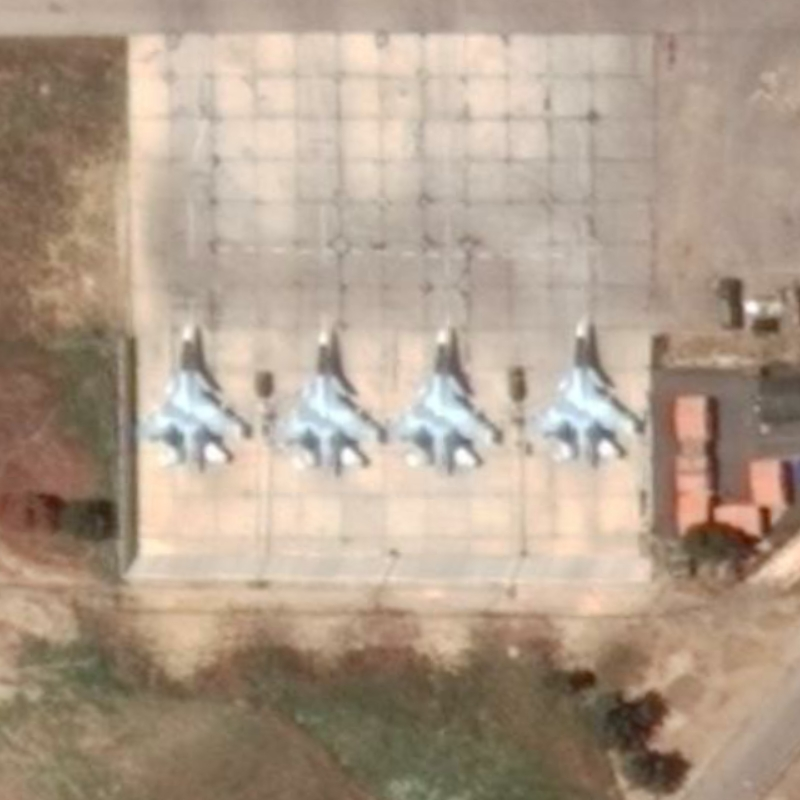A19: (126, 319, 248, 472), (265, 325, 384, 474), (388, 323, 501, 475), (527, 316, 640, 467)
